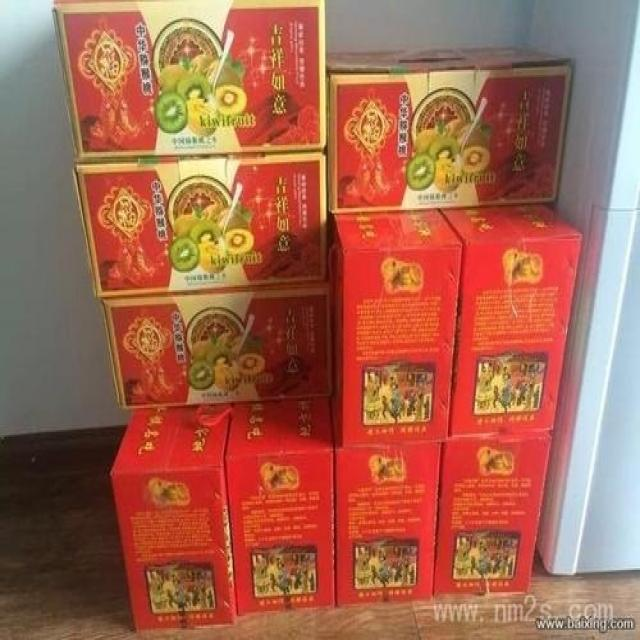box: (325, 43, 576, 217), (55, 2, 326, 162), (74, 148, 332, 297), (439, 203, 582, 435), (328, 207, 465, 449), (99, 283, 338, 408), (111, 401, 239, 633), (225, 391, 335, 614), (332, 391, 443, 608), (433, 433, 552, 596)
